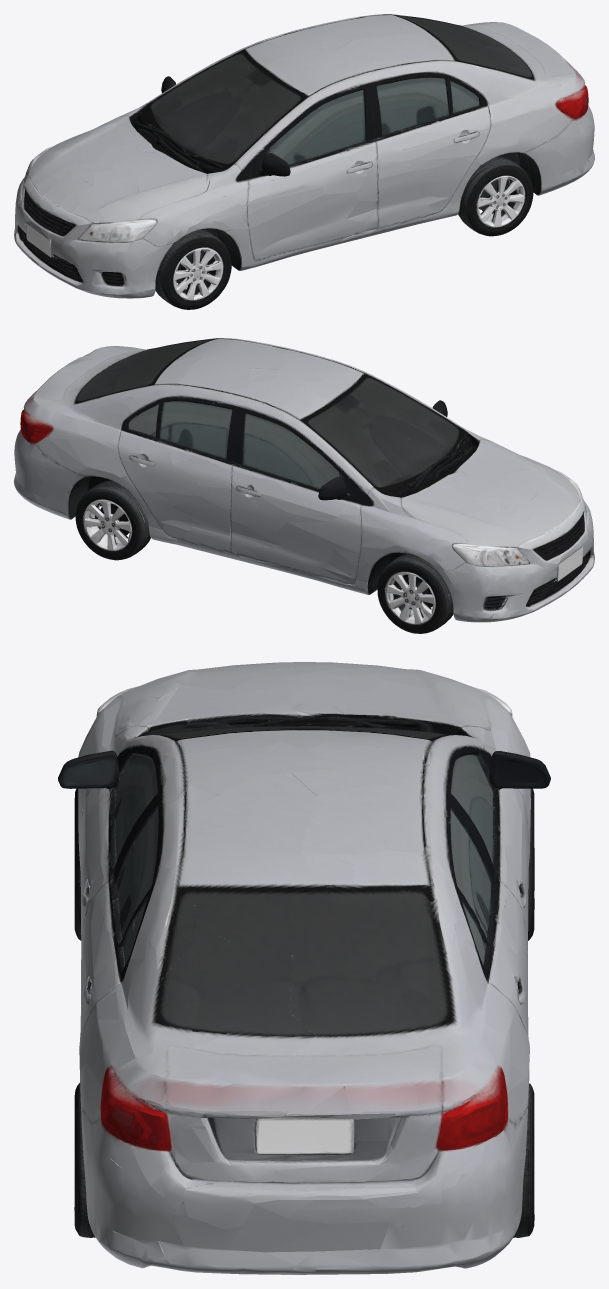
The model's file is remeshed-sedan.glb.
The picture shows the model from 3 angles, top to bottom: view 1: azimuth 30°, elevation 25°; view 2: azimuth 150°, elevation 25°; view 3: azimuth 270°, elevation 25°; orthographic projection. The views are drawn at different scales.
Parts seen in each view (by area): view 1: output_unwrapped; view 2: output_unwrapped; view 3: output_unwrapped.
Boxes of the visible parts, x1,y1,x2,y2 form: output_unwrapped: (14, 14, 594, 309); output_unwrapped: (14, 338, 594, 633); output_unwrapped: (58, 662, 550, 1274).
Size of the model in its own units: 1.9 by 0.6 by 0.7689.
Materials: 1 (1 with a texture image).
